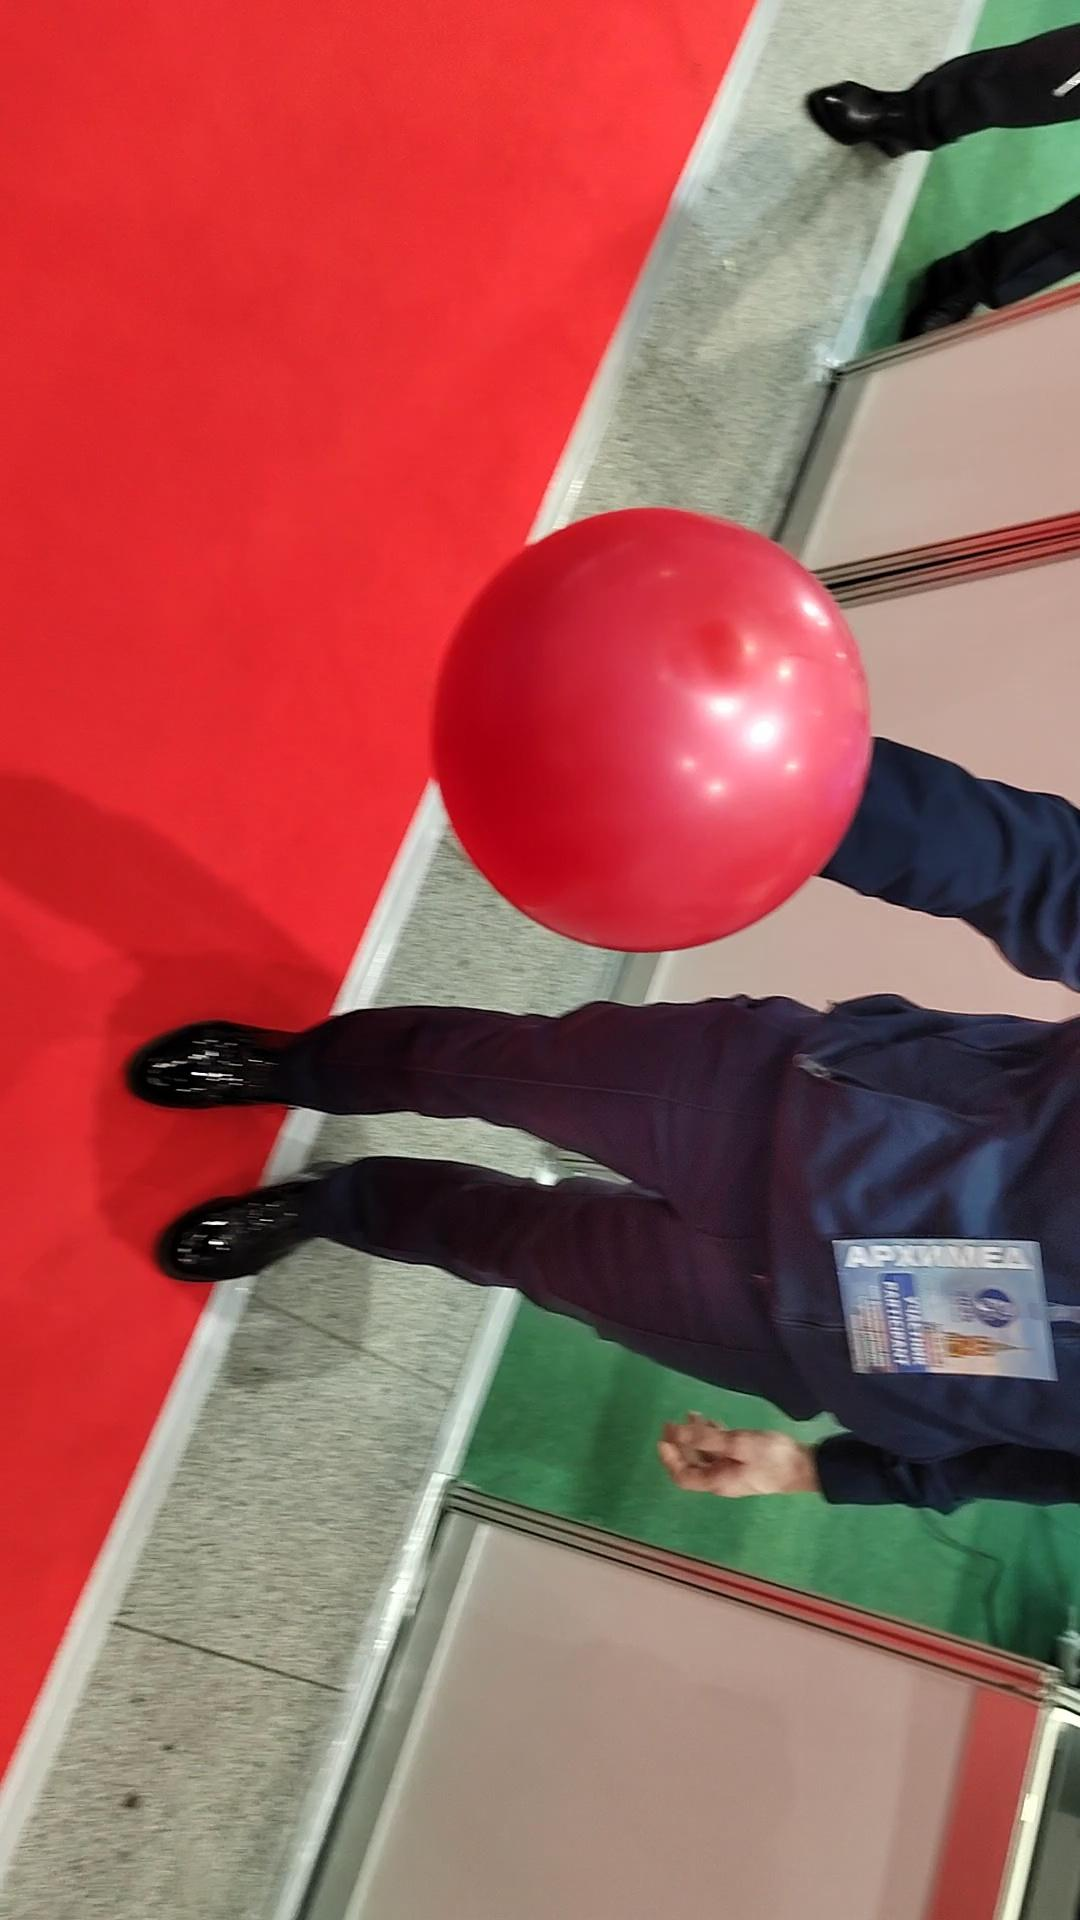red: (421, 508, 878, 959)
